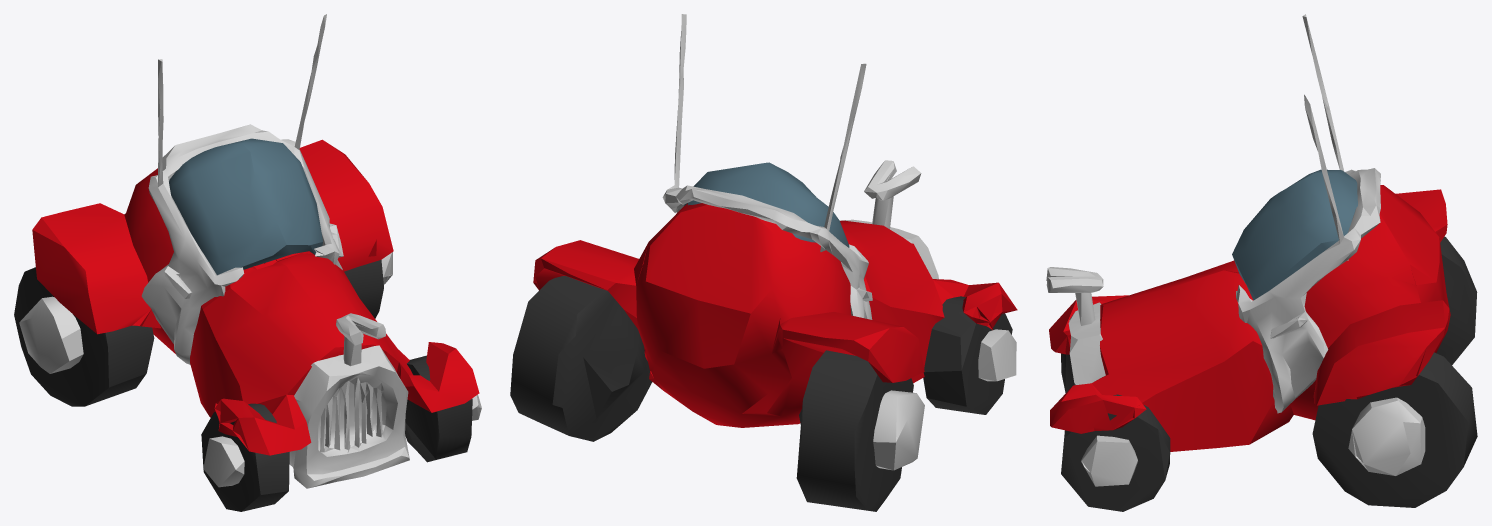
File: broomcoolcar.fbx
3 views of the same model, side by side, from view 1: azimuth 30°, elevation 25°; view 2: azimuth 150°, elevation 25°; view 3: azimuth 270°, elevation 25° (orthographic). The views are drawn at different scales.
Visible parts, largest first — view 1: Layer_4; view 2: Layer_4; view 3: Layer_4.
Part boxes in pixels (box(x1,y1,x2,y2)): Layer_4: box(14, 14, 481, 511); Layer_4: box(510, 14, 1017, 511); Layer_4: box(1046, 14, 1477, 511).
Bounding box in the file's own units: 318 × 334 × 323.
